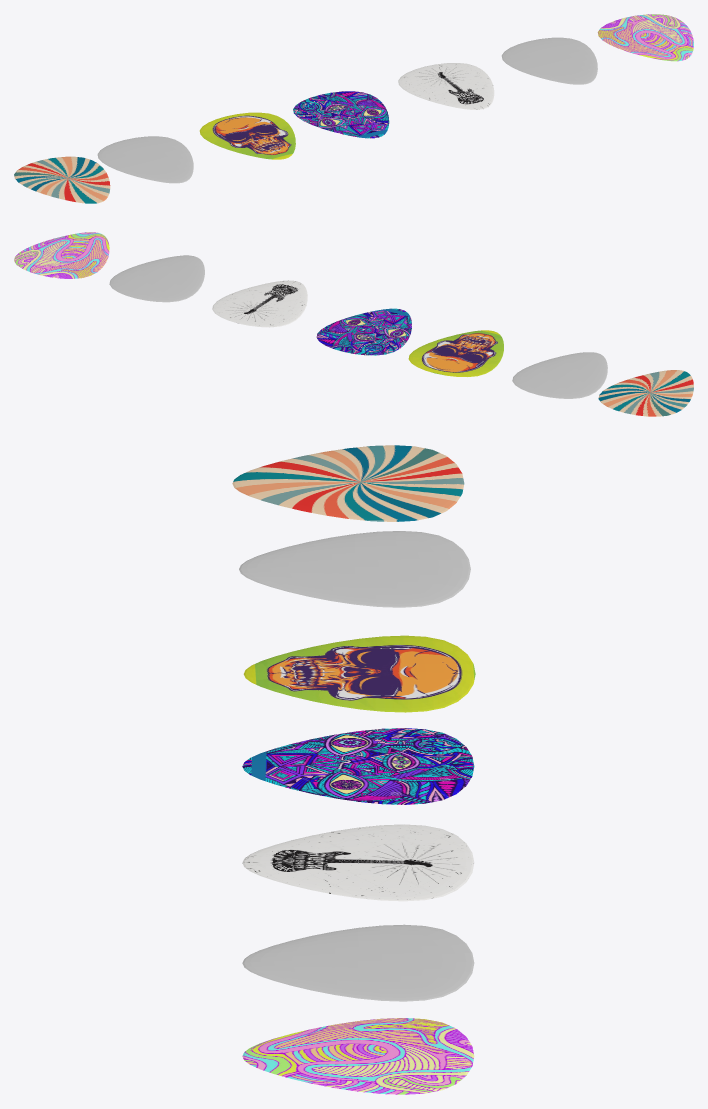
Rendered from _icks.fbx.
3 renders of one model, top to bottom at view 1: azimuth 30°, elevation 25°; view 2: azimuth 150°, elevation 25°; view 3: azimuth 270°, elevation 25°, orthographic. The views are drawn at different scales.
Parts seen in each view (by area): view 1: guitarpick.lwo, guitarpick.lwo.001, guitarpick.lwo.002, guitarpick.lwo.003, guitarpick.lwo.005, guitarpick.lwo.006, guitarpick.lwo.004; view 2: guitarpick.lwo.004, guitarpick.lwo.003, guitarpick.lwo.006, guitarpick.lwo.001, guitarpick.lwo.005, guitarpick.lwo, guitarpick.lwo.002; view 3: guitarpick.lwo.003, guitarpick.lwo, guitarpick.lwo.002, guitarpick.lwo.001, guitarpick.lwo.006, guitarpick.lwo.005, guitarpick.lwo.004.
Part boxes in pixels (<box>): guitarpick.lwo: <box>14,156,110,203</box>; guitarpick.lwo.001: <box>97,136,193,183</box>; guitarpick.lwo.002: <box>199,112,295,159</box>; guitarpick.lwo.003: <box>293,91,389,138</box>; guitarpick.lwo.005: <box>501,37,597,84</box>; guitarpick.lwo.006: <box>597,14,693,61</box>; guitarpick.lwo.004: <box>398,63,494,109</box>; guitarpick.lwo.004: <box>212,280,307,327</box>; guitarpick.lwo.003: <box>316,308,411,355</box>; guitarpick.lwo.006: <box>14,232,109,278</box>; guitarpick.lwo.001: <box>512,352,607,398</box>; guitarpick.lwo.005: <box>109,255,204,302</box>; guitarpick.lwo: <box>598,370,693,416</box>; guitarpick.lwo.002: <box>408,330,503,376</box>; guitarpick.lwo.003: <box>242,728,474,804</box>; guitarpick.lwo: <box>232,445,464,521</box>; guitarpick.lwo.002: <box>243,635,475,712</box>; guitarpick.lwo.001: <box>239,531,470,607</box>; guitarpick.lwo.006: <box>242,1018,474,1094</box>; guitarpick.lwo.005: <box>242,924,474,1001</box>; guitarpick.lwo.004: <box>242,824,474,901</box>.
Size of the model in its own units: 3315 by 35.78 by 529.
